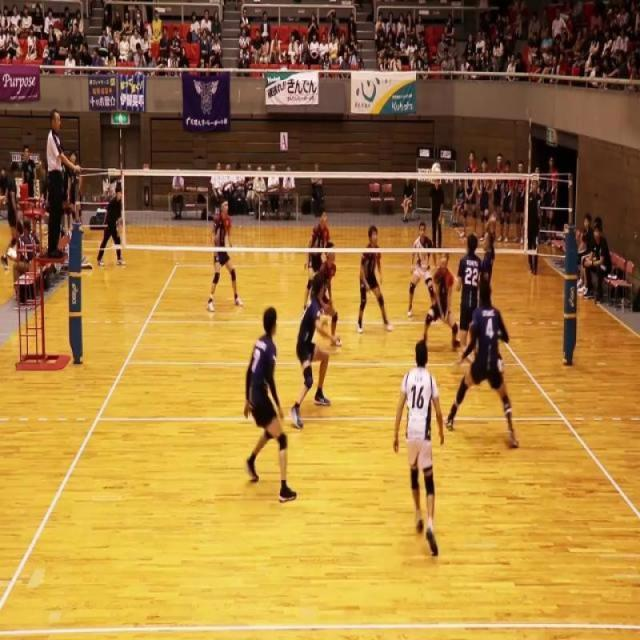volleyball: (431, 160, 442, 190)
